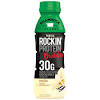milk carton: (27, 1, 68, 99)
